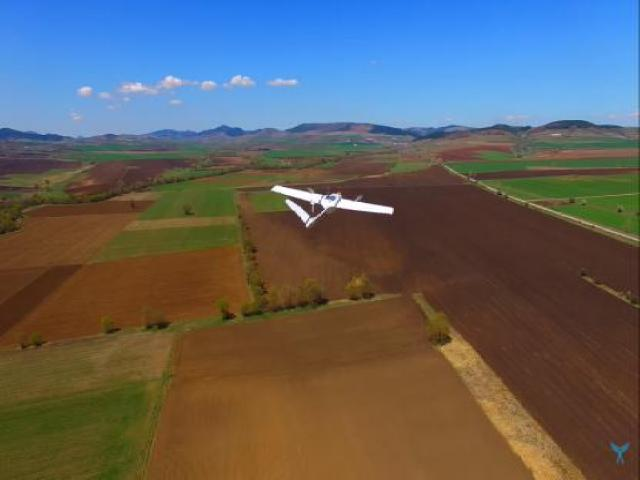uav: (265, 175, 398, 239)
